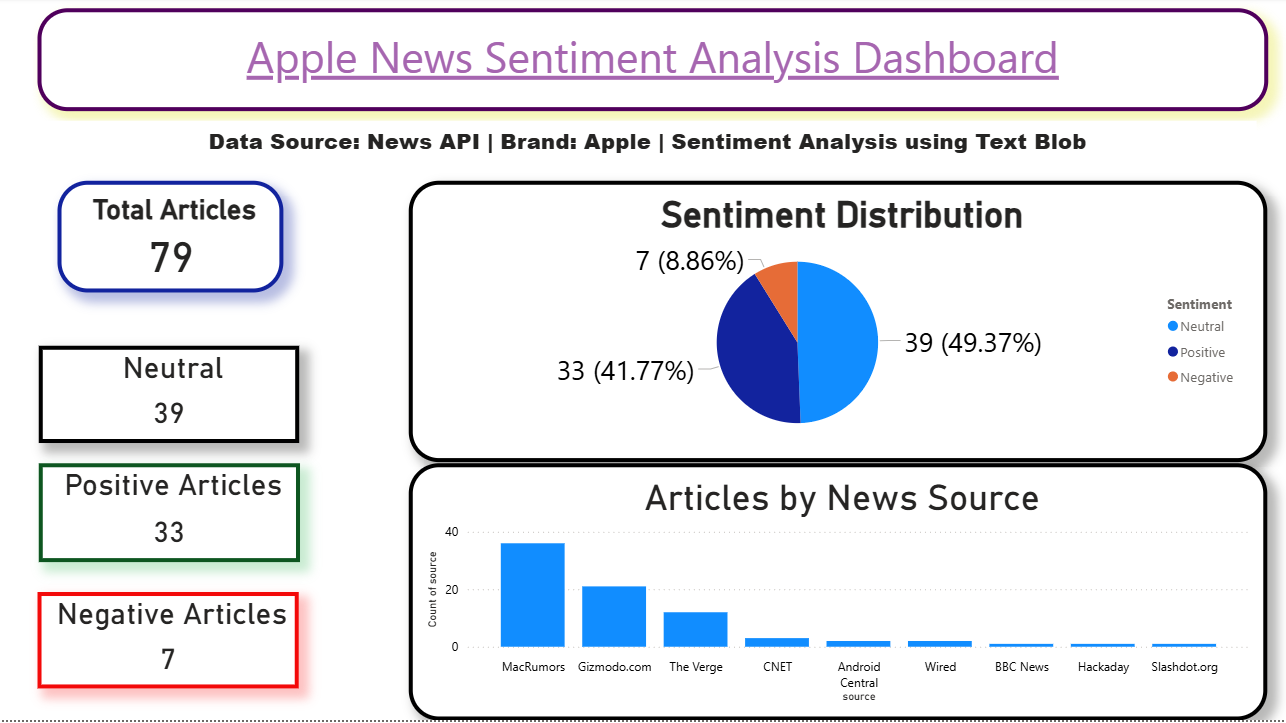

Layout of this report page (visuals, bound fields, positions):
{"tool":"powerbi","page":{"name":"Dashboard","canvas":[1280,720],"ordinal":0},"visuals":[{"type":"card","title":"Total Articles","fields":{"Values":["CountNonNull(apple_news_with_sentiment.title)"]},"box":[56.9,183.5,224.7,110.9],"z":0},{"type":"pieChart","title":"Sentiment Distribution","fields":{"Category":["apple_news_with_sentiment.Sentiment"],"Y":["CountNonNull(apple_news_with_sentiment.Sentiment)"]},"box":[406.8,183.5,854.8,280.2],"z":1},{"type":"clusteredColumnChart","title":"Articles by News Source","fields":{"Y":["CountNonNull(apple_news_with_sentiment.source)"],"Category":["apple_news_with_sentiment.source"]},"box":[406.8,463.6,854.8,256],"z":2},{"type":"card","title":"Positive Articles","fields":{"Values":["CountNonNull(apple_news_with_sentiment.Sentiment)"]},"box":[38.6,464,260,98.3],"z":3},{"type":"card","title":"Negative Articles","fields":{"Values":["CountNonNull(apple_news_with_sentiment.Sentiment)"]},"box":[37.3,592.1,260,95.8],"z":4},{"type":"textbox","box":[37,11.4,1224.5,102.4],"z":5},{"type":"textbox","box":[38.4,123.7,1211.7,49.8],"z":6},{"type":"card","title":"Neutral","fields":{"Values":["CountNonNull(apple_news_with_sentiment.Sentiment)"]},"box":[38.9,347.4,259.5,96.6],"z":7}]}

Visuals, with their boxes in screenshot pixels (x1, y1, x2, y2), scaled from the page's 1280x720 canvas onto the 1286x723 screenshot:
"Total Articles" card: x1=57, y1=184, x2=283, y2=296
"Sentiment Distribution" pieChart: x1=409, y1=184, x2=1268, y2=466
"Articles by News Source" clusteredColumnChart: x1=409, y1=466, x2=1268, y2=722
"Positive Articles" card: x1=39, y1=466, x2=300, y2=565
"Negative Articles" card: x1=37, y1=595, x2=299, y2=691
textbox: x1=37, y1=11, x2=1267, y2=114
textbox: x1=39, y1=124, x2=1256, y2=174
"Neutral" card: x1=39, y1=349, x2=300, y2=446
